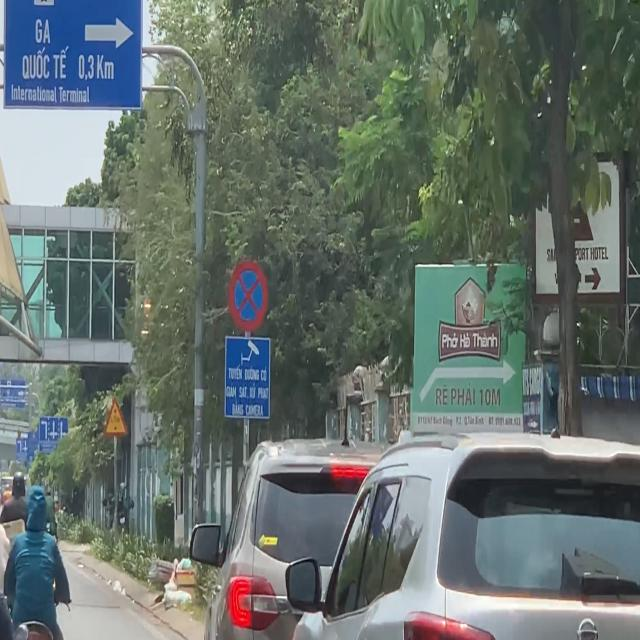Cam dung va do: (226, 257, 270, 333)
Nguy hiem: (103, 394, 128, 437)
